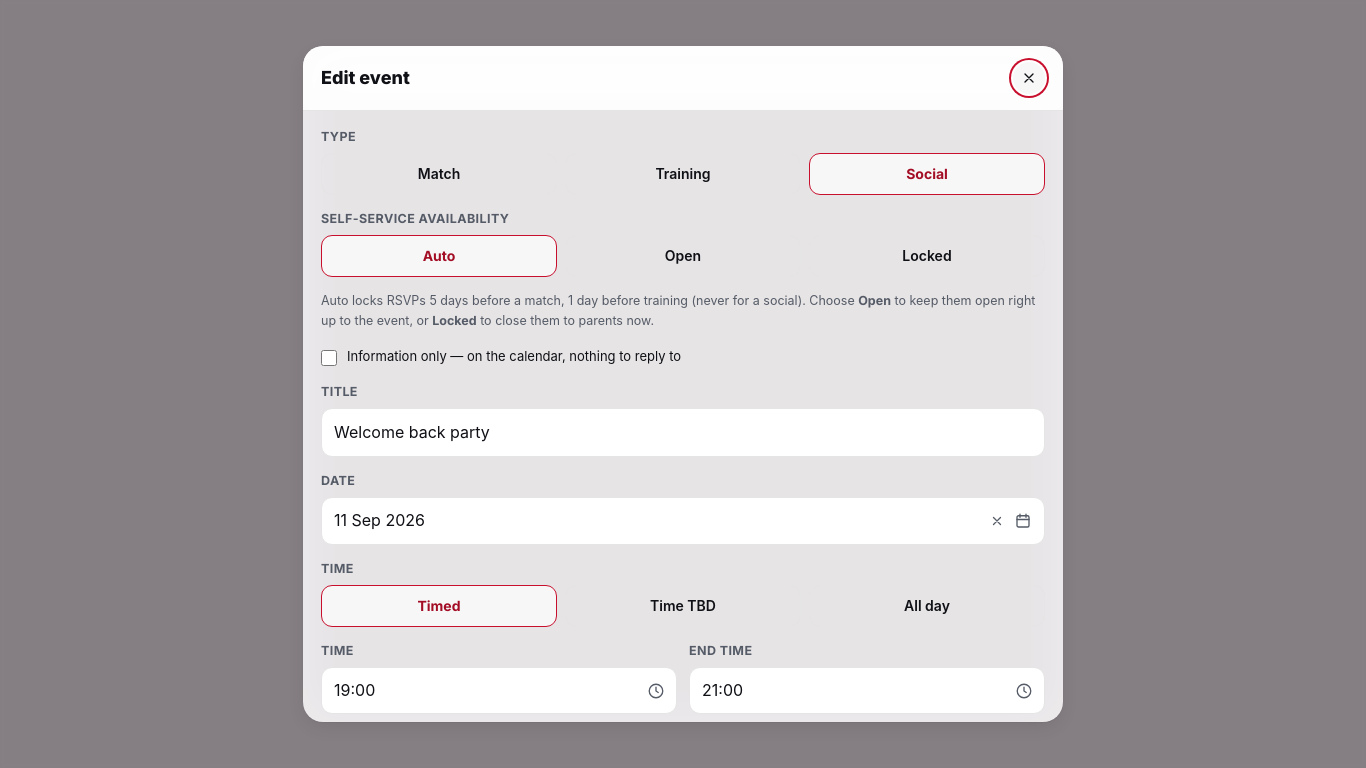
Scenario: EventForm reclassifying a social as a Club Diary › says "1 person has" rather than "1 people have"
Click the checkbox labelled "Information only — on the calendar, nothing to reply to": (329, 358) [321,350,337,366]
(page scrolled)
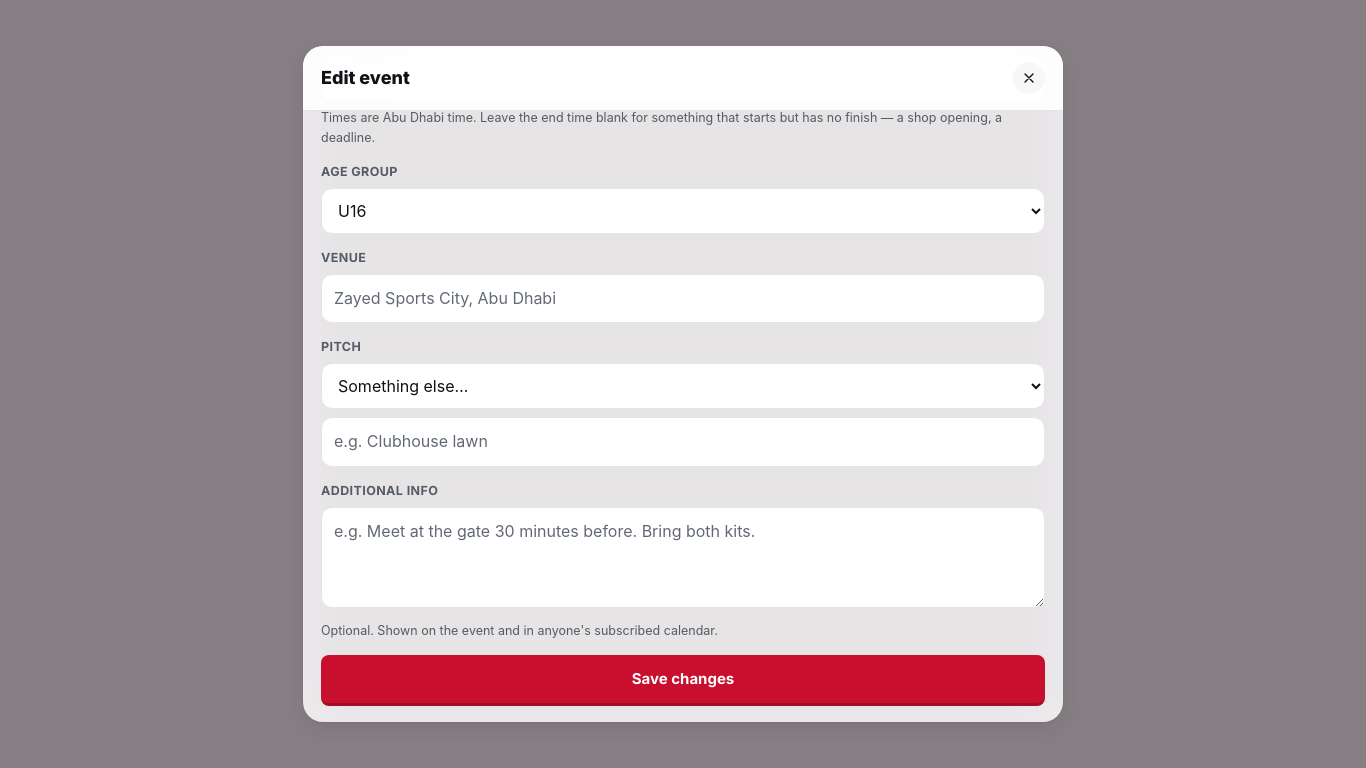
Click the button "Save changes": (683, 681) [321,655,1045,706]
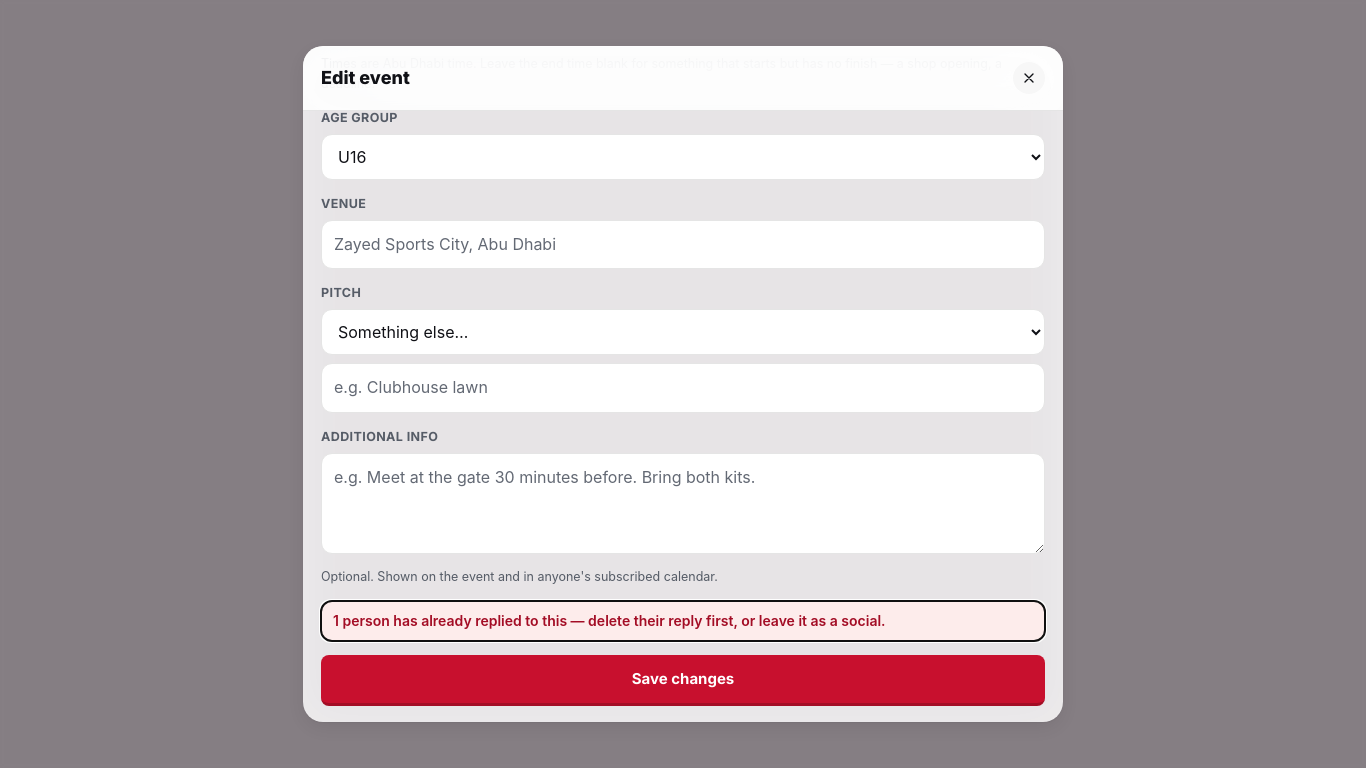
expect the message shows "1 person has already replied": met, box [333,612,886,629]
